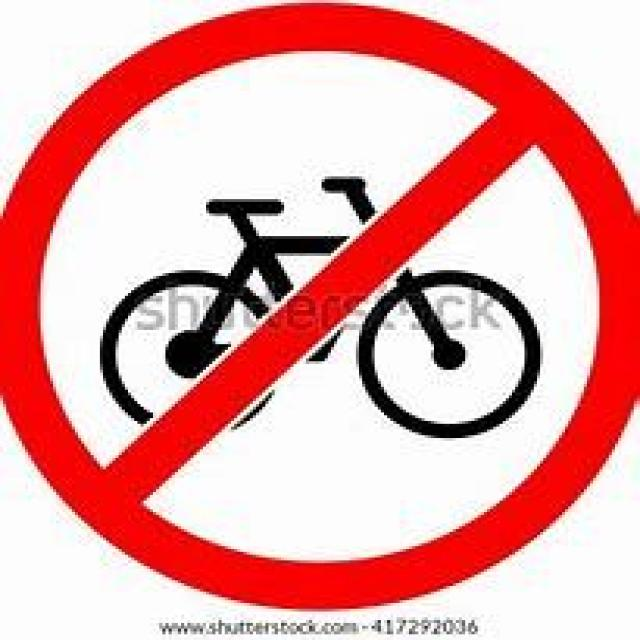cycle_prohibited: (0, 0, 637, 609)
